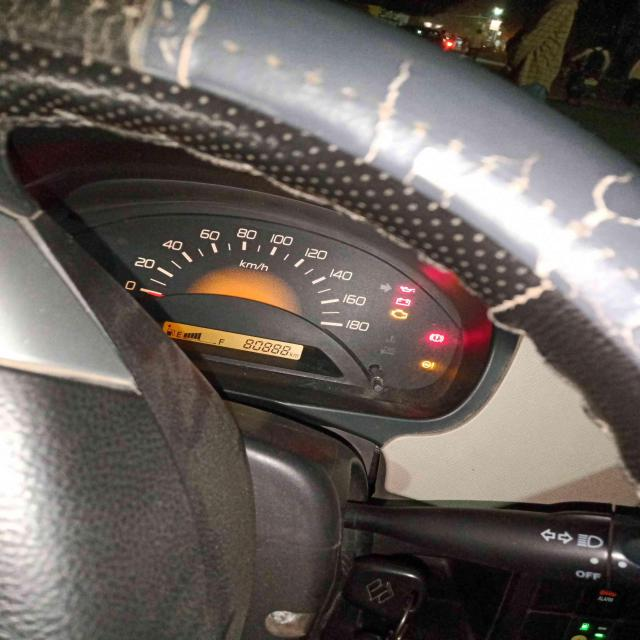Braking System Issue: (429, 333, 445, 343)
Charging System Issue: (395, 297, 412, 307)
Check Engine: (390, 308, 408, 320)
Low Engine Oil Warning Light: (399, 286, 416, 294)
